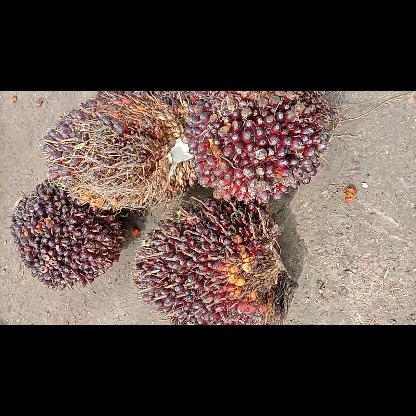Kurang masak: (131, 198, 297, 324), (40, 91, 196, 211), (181, 91, 335, 203), (9, 178, 129, 288)
